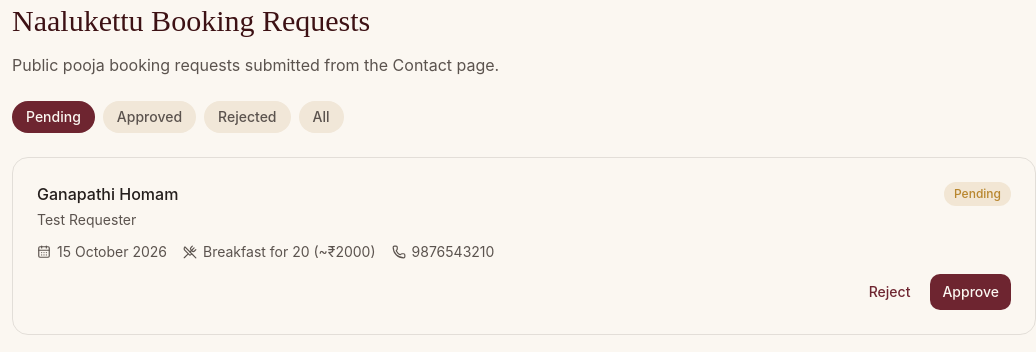
Test: NaalukettuBookingsAdminPanel › switches filters and refetches
expect the text "Ganapathi Homam" is shown: met, box [37,182,178,206]
Click the button "Approved". click: point(149, 117)
box: [103,101,196,133]
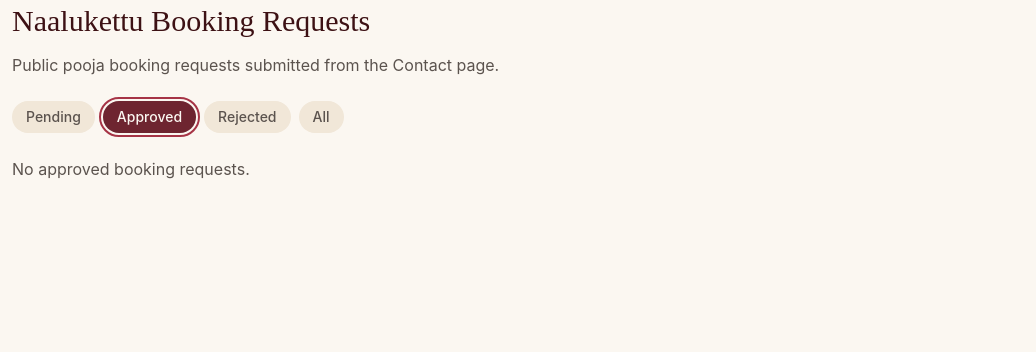
expect the text "No approved booking requests." is shown: met, box [12,159,250,179]
